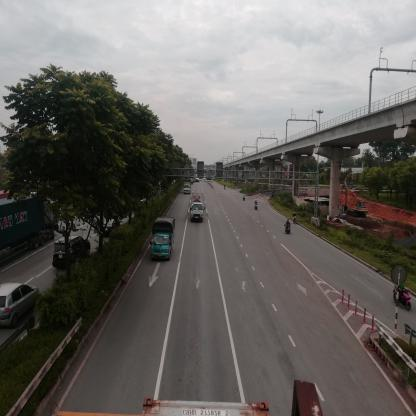car: (2, 278, 40, 331), (53, 231, 94, 269)
container: (2, 185, 55, 264)
motorbike: (394, 289, 412, 310), (284, 220, 292, 236), (255, 200, 260, 212)
truck: (151, 218, 176, 262), (194, 197, 206, 224), (184, 182, 193, 196)
